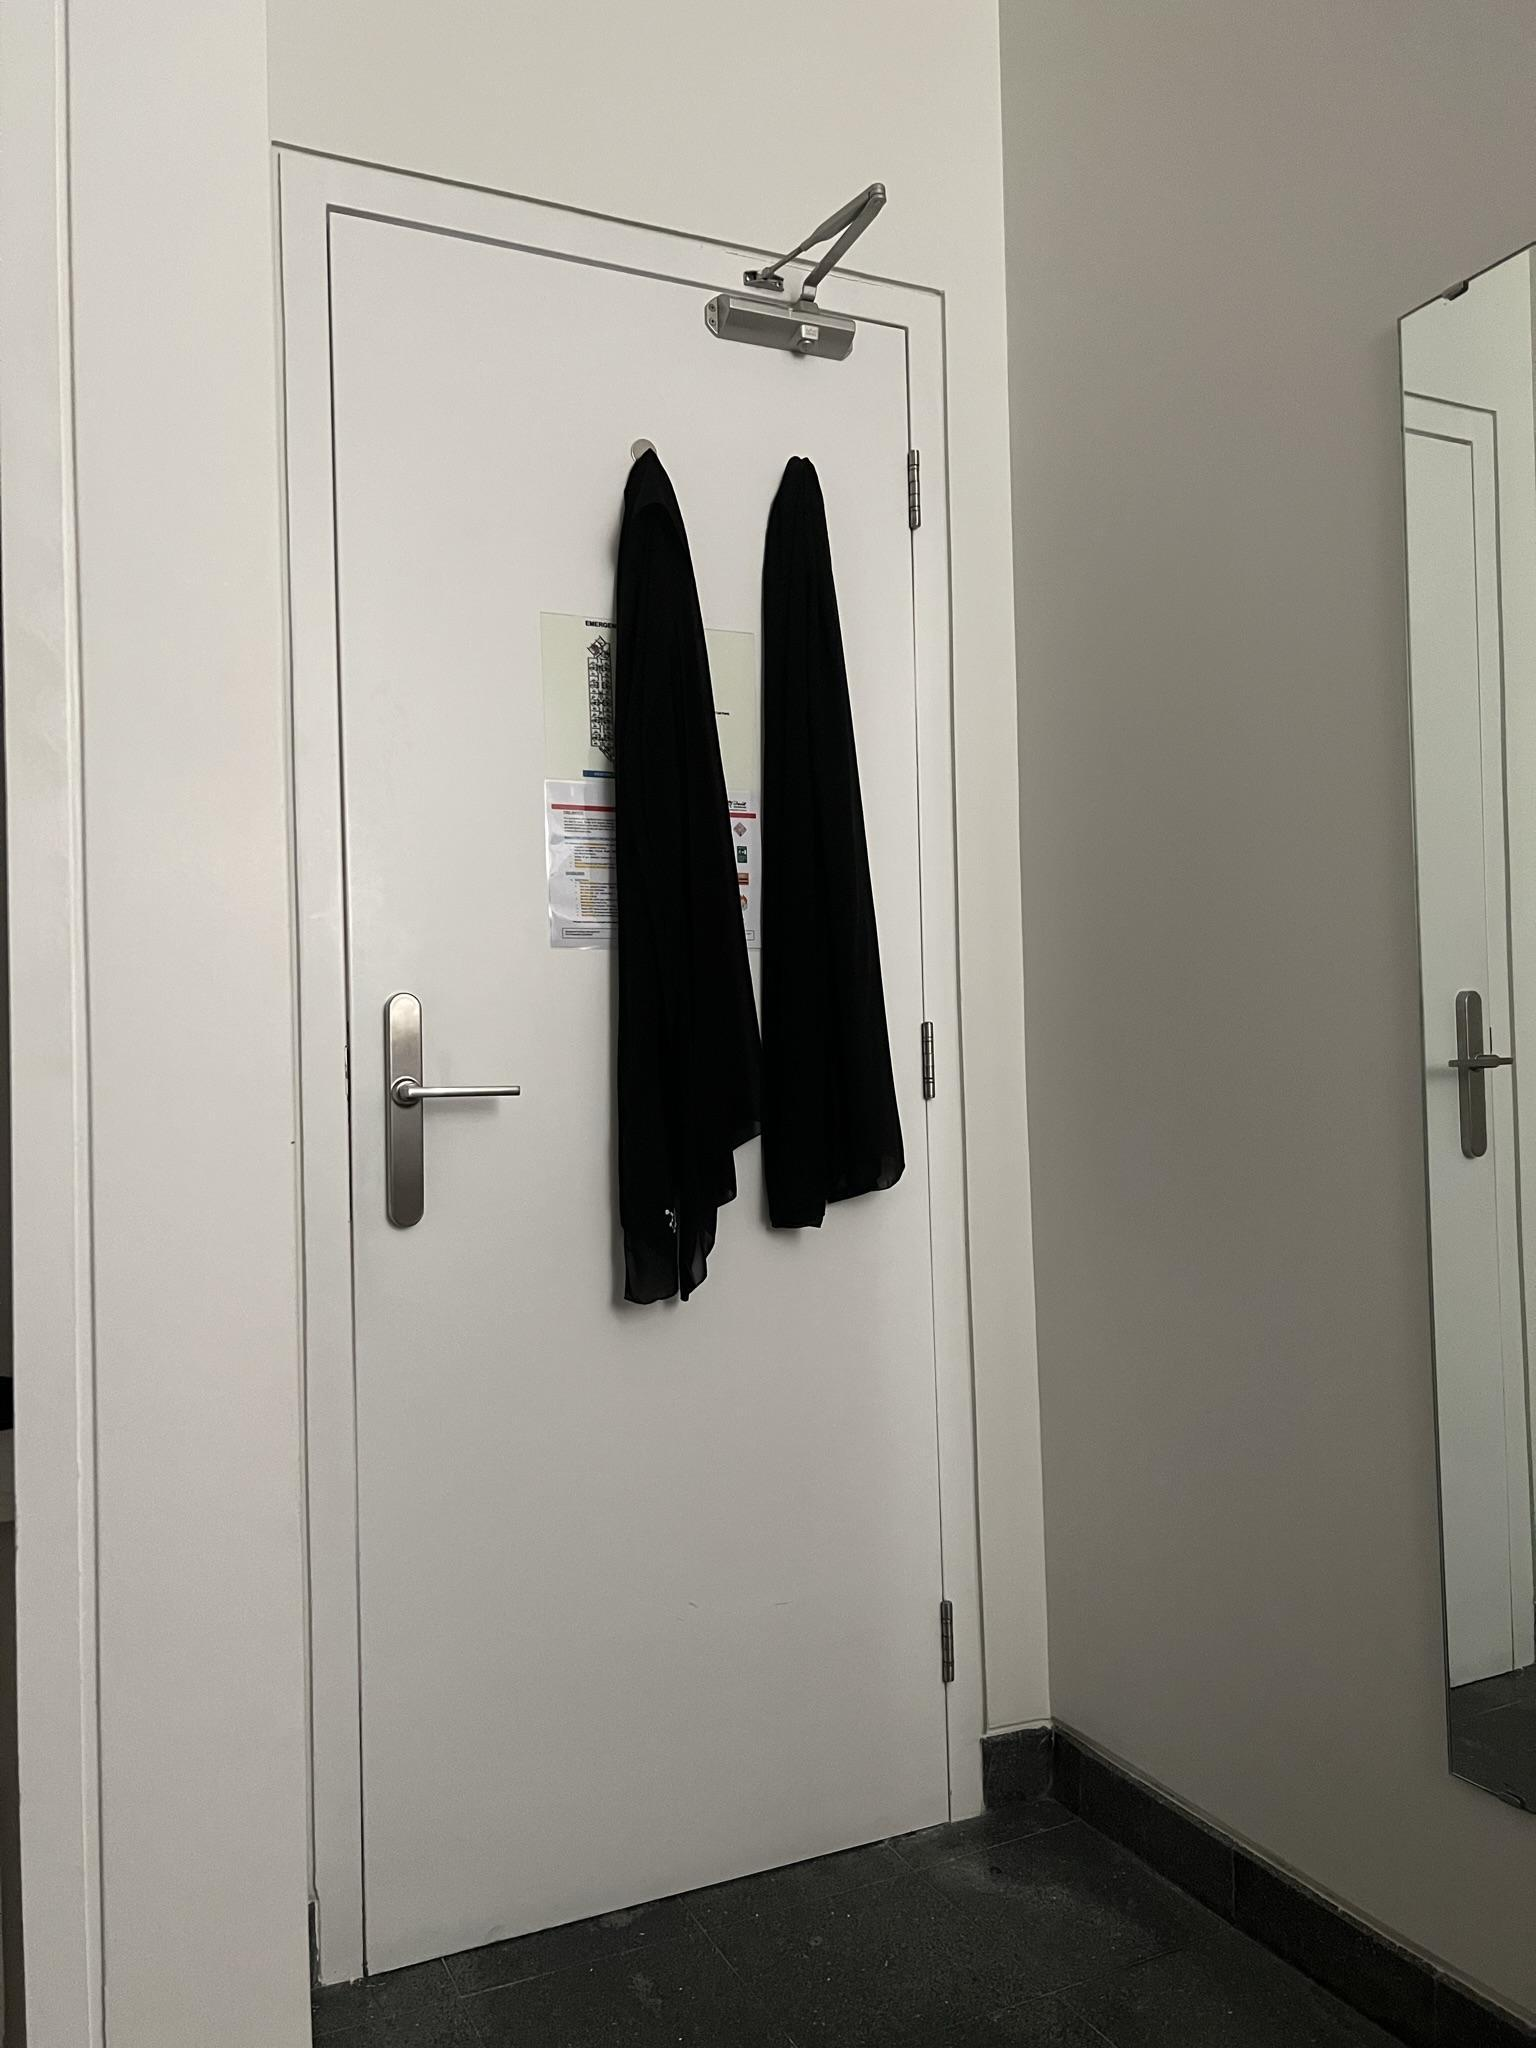door: (342, 235, 957, 1992)
handle: (384, 984, 523, 1234)
